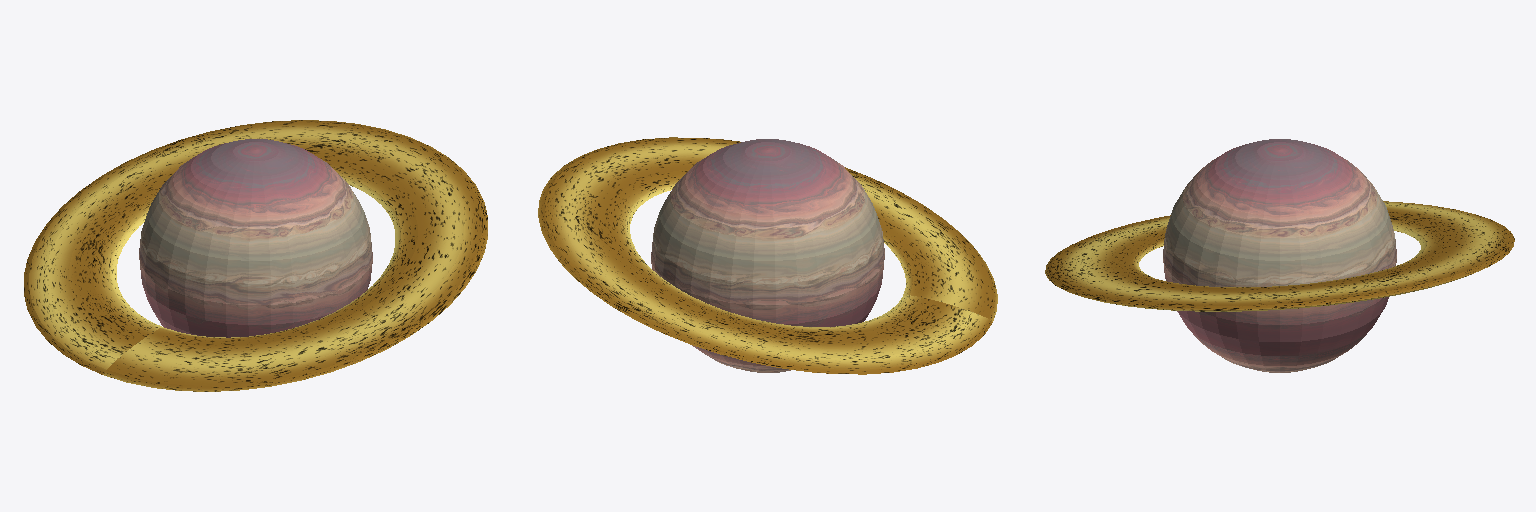
3 views of the same model, side by side, from view 1: azimuth 30°, elevation 25°; view 2: azimuth 150°, elevation 25°; view 3: azimuth 270°, elevation 25° (orthographic).
Parts seen in each view (by area): view 1: Torus, Sphere; view 2: Torus, Sphere; view 3: Sphere, Torus.
Boxes of the visible parts, box(x1,y1,x2,y2) form: Torus: box(24, 120, 487, 391); Sphere: box(139, 139, 372, 337); Torus: box(538, 137, 997, 374); Sphere: box(651, 139, 884, 372); Sphere: box(1163, 139, 1396, 372); Torus: box(1045, 201, 1514, 311).
Bounding box in the file's own units: 19.99 × 10.2 × 20.41.
2 materials, 2 textured.